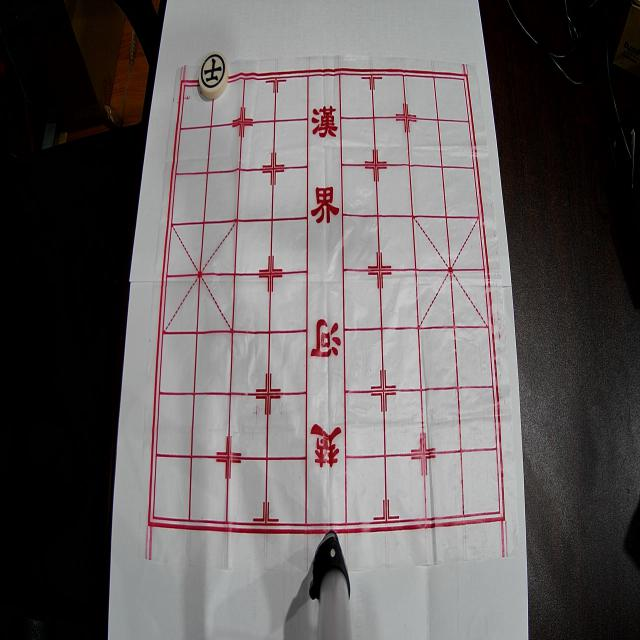black-guard: (198, 51, 228, 99)
